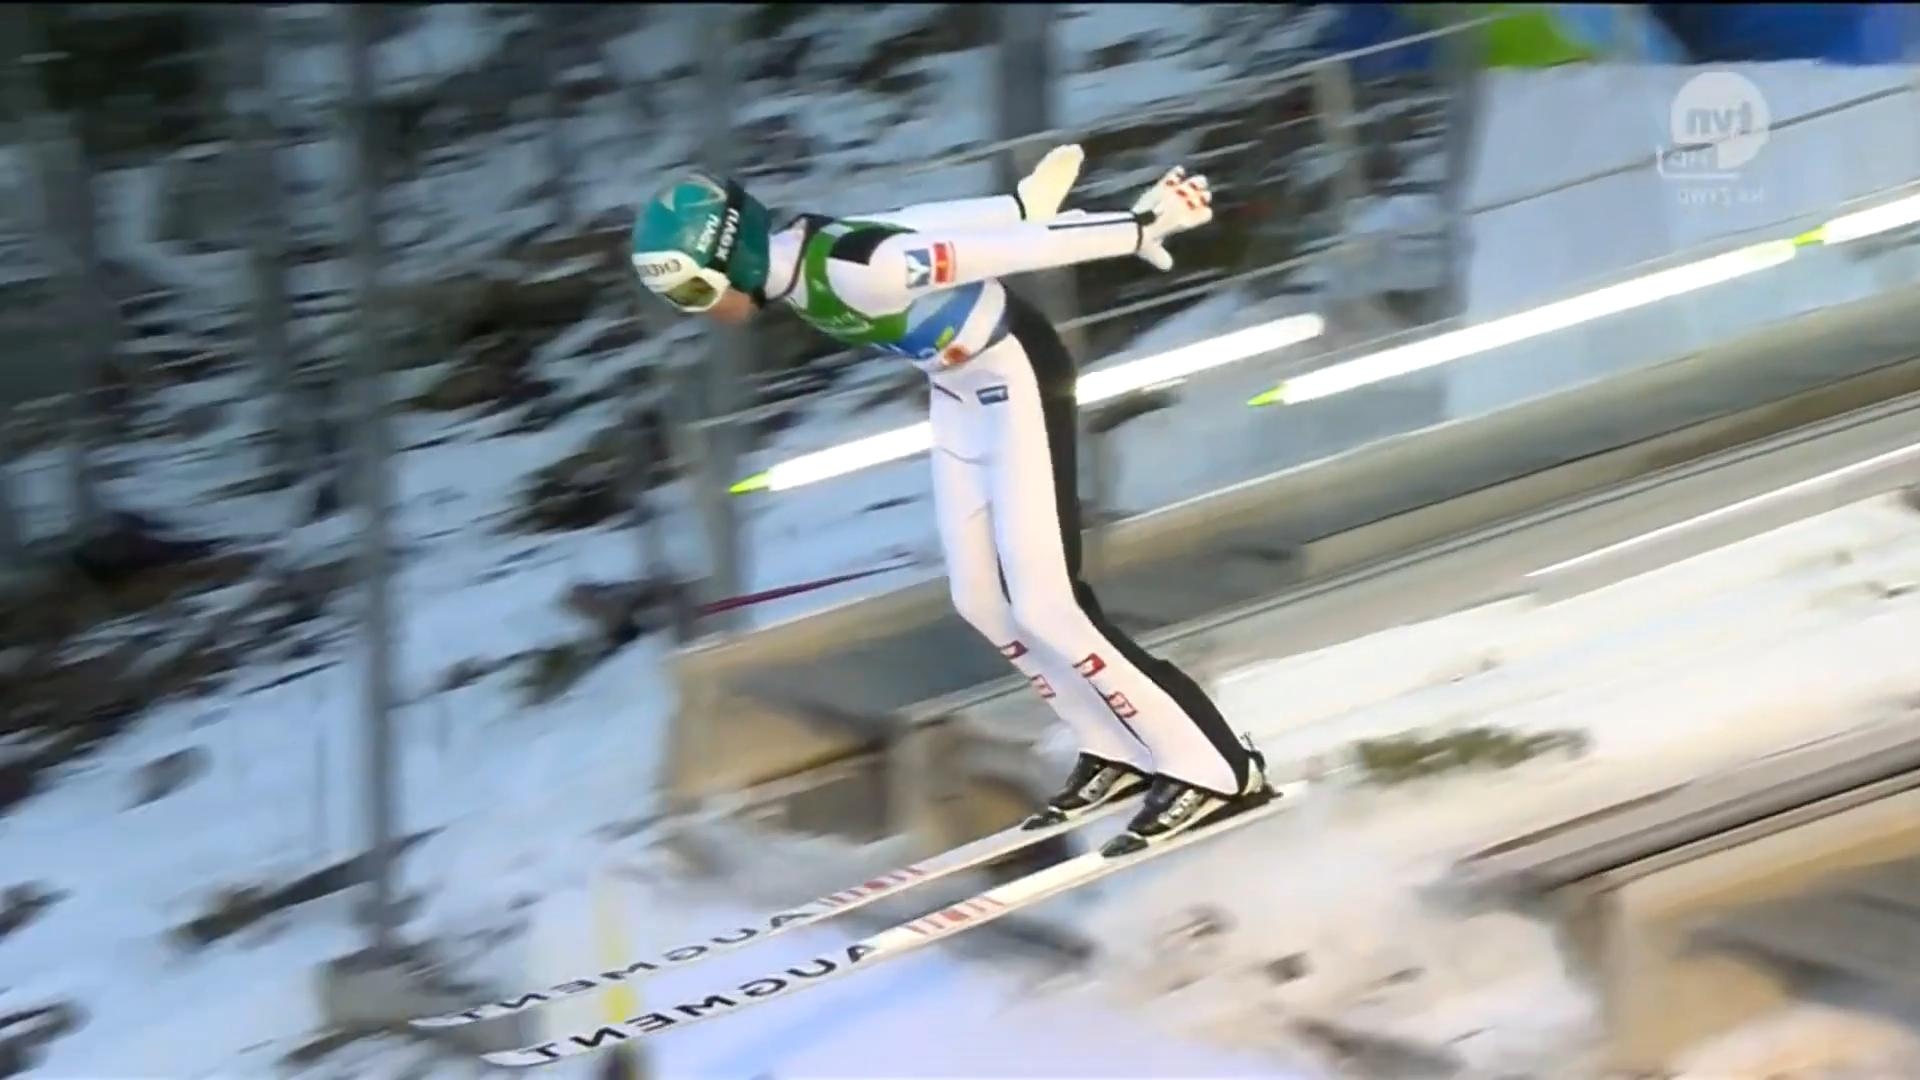prog: (740, 678, 1031, 762)
